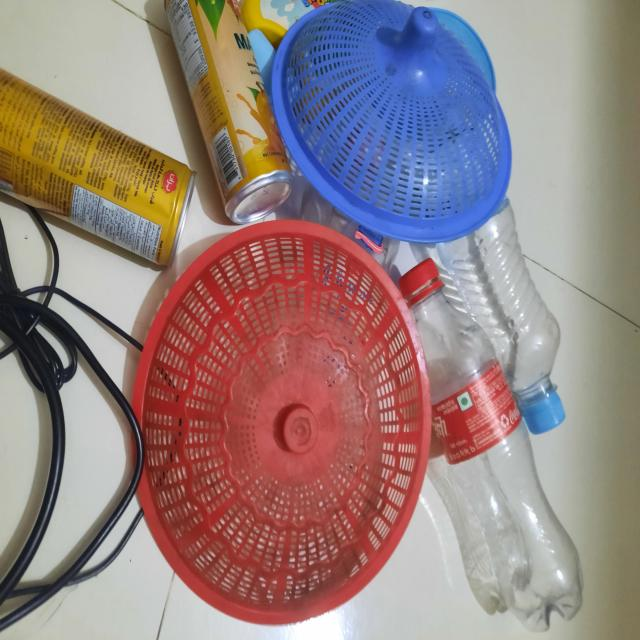Cable: (2, 203, 131, 617)
Plastics: (141, 239, 590, 640), (271, 0, 524, 236)
can: (2, 0, 264, 233)
